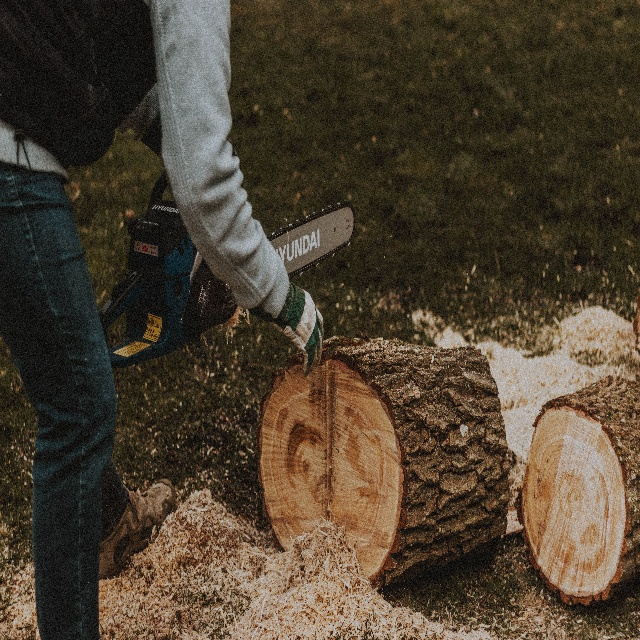Guantes: (281, 280, 324, 367)
